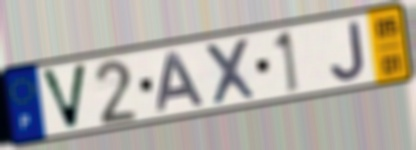1: (271, 28, 301, 96)
2: (93, 55, 141, 128)
A: (156, 49, 208, 114)
J: (327, 18, 368, 84)
V: (37, 61, 90, 132)
X: (201, 35, 260, 108)
